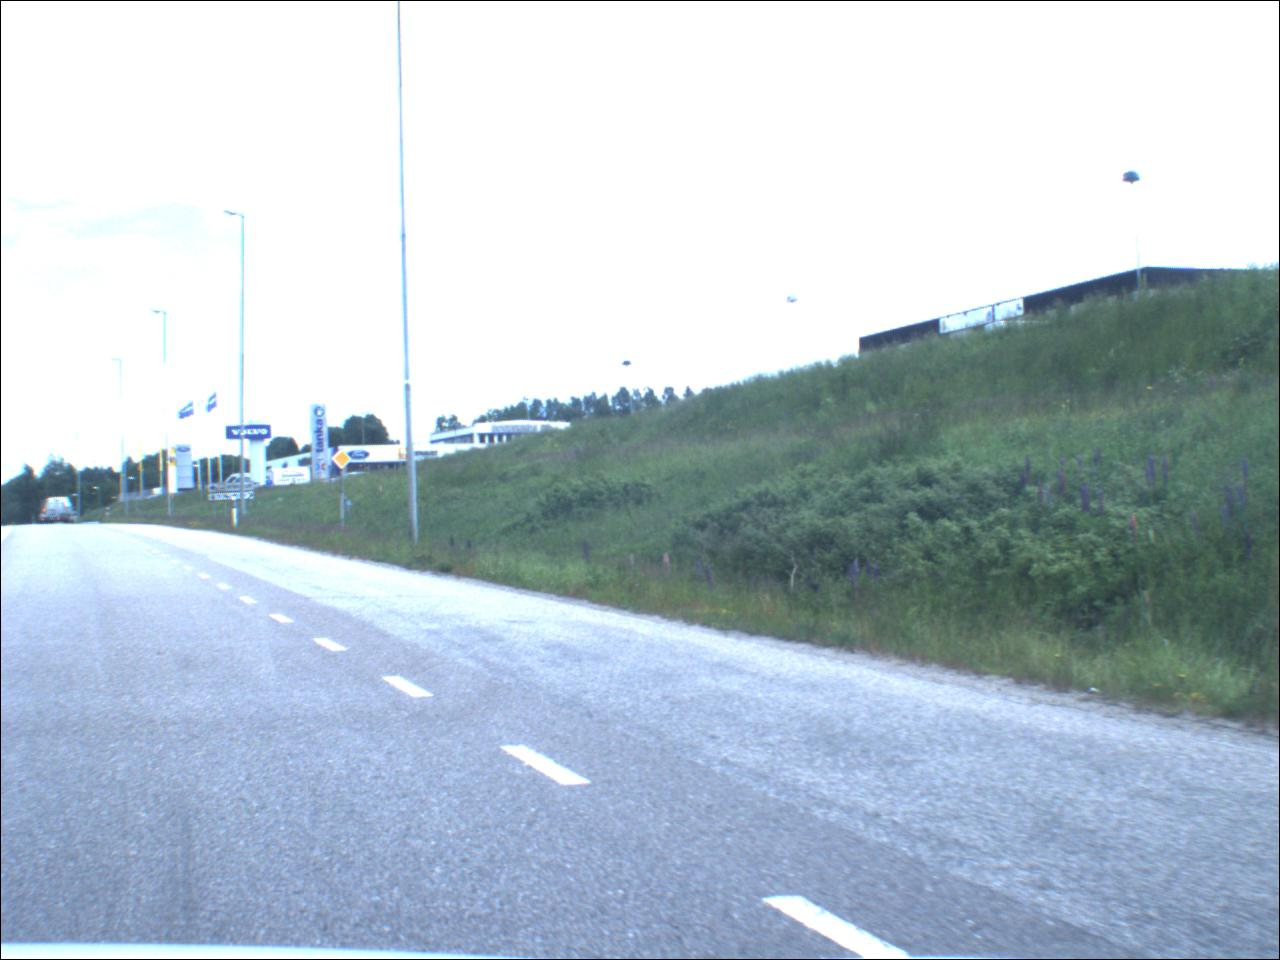PRIORITY_ROAD: (333, 451, 354, 473)
